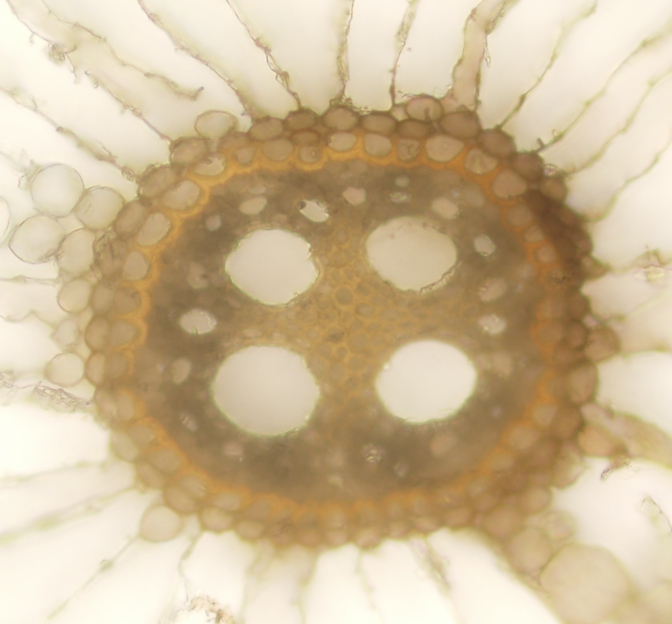lm: (210, 344, 320, 436), (375, 340, 479, 423), (225, 227, 320, 306), (363, 216, 458, 293)
